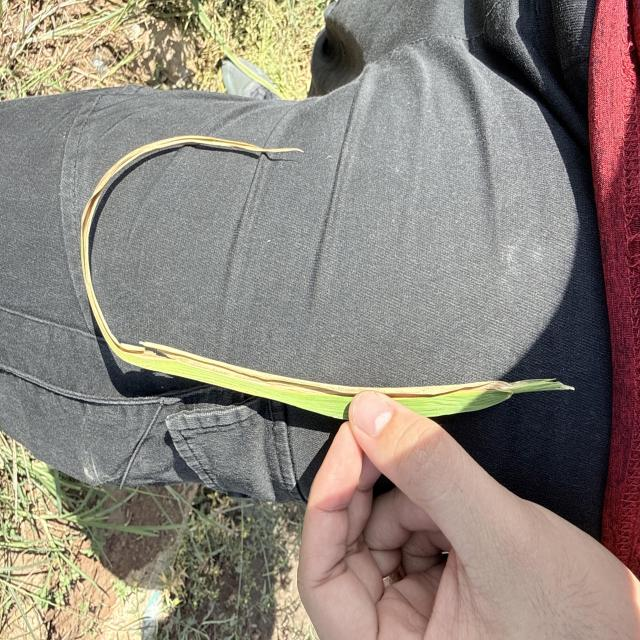Chay bia la: (80, 135, 522, 400)
